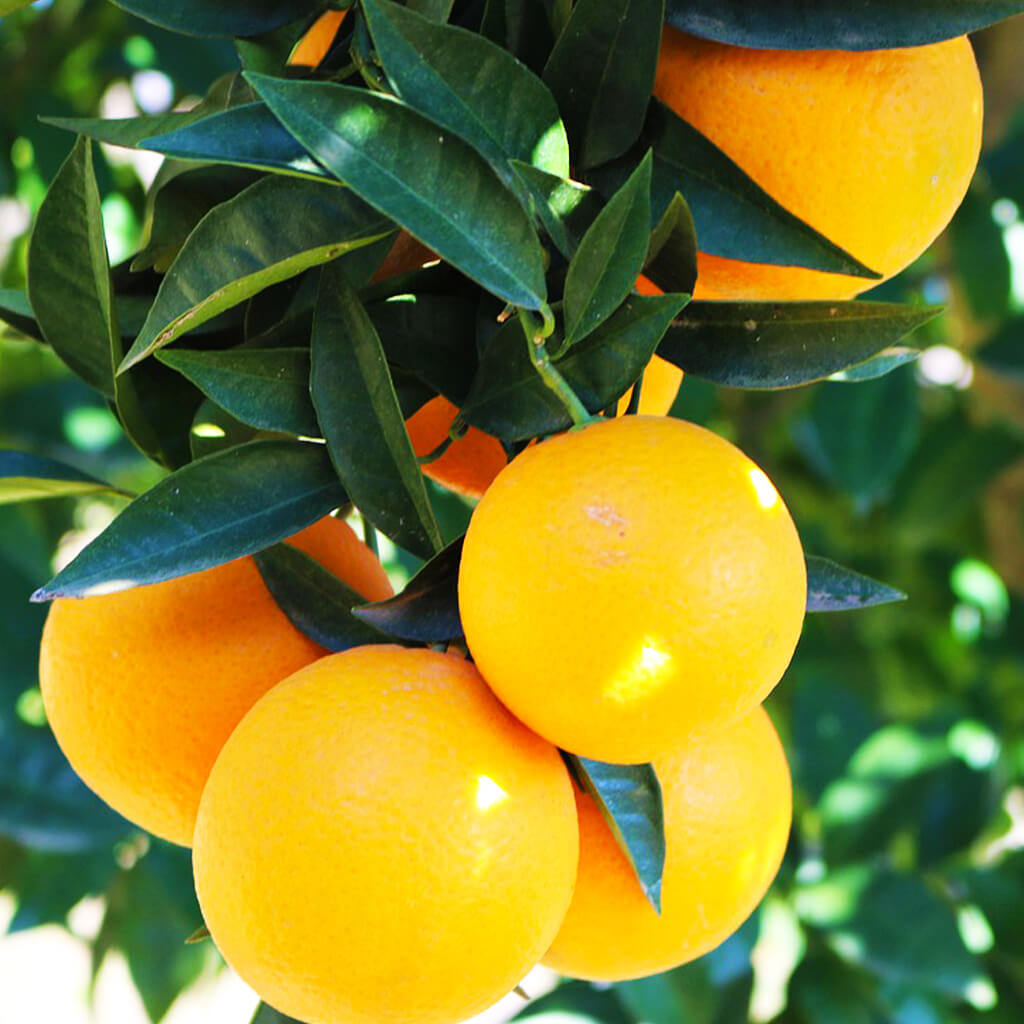portakal: (403, 192, 1019, 767), (16, 322, 407, 839), (522, 8, 1024, 321)
